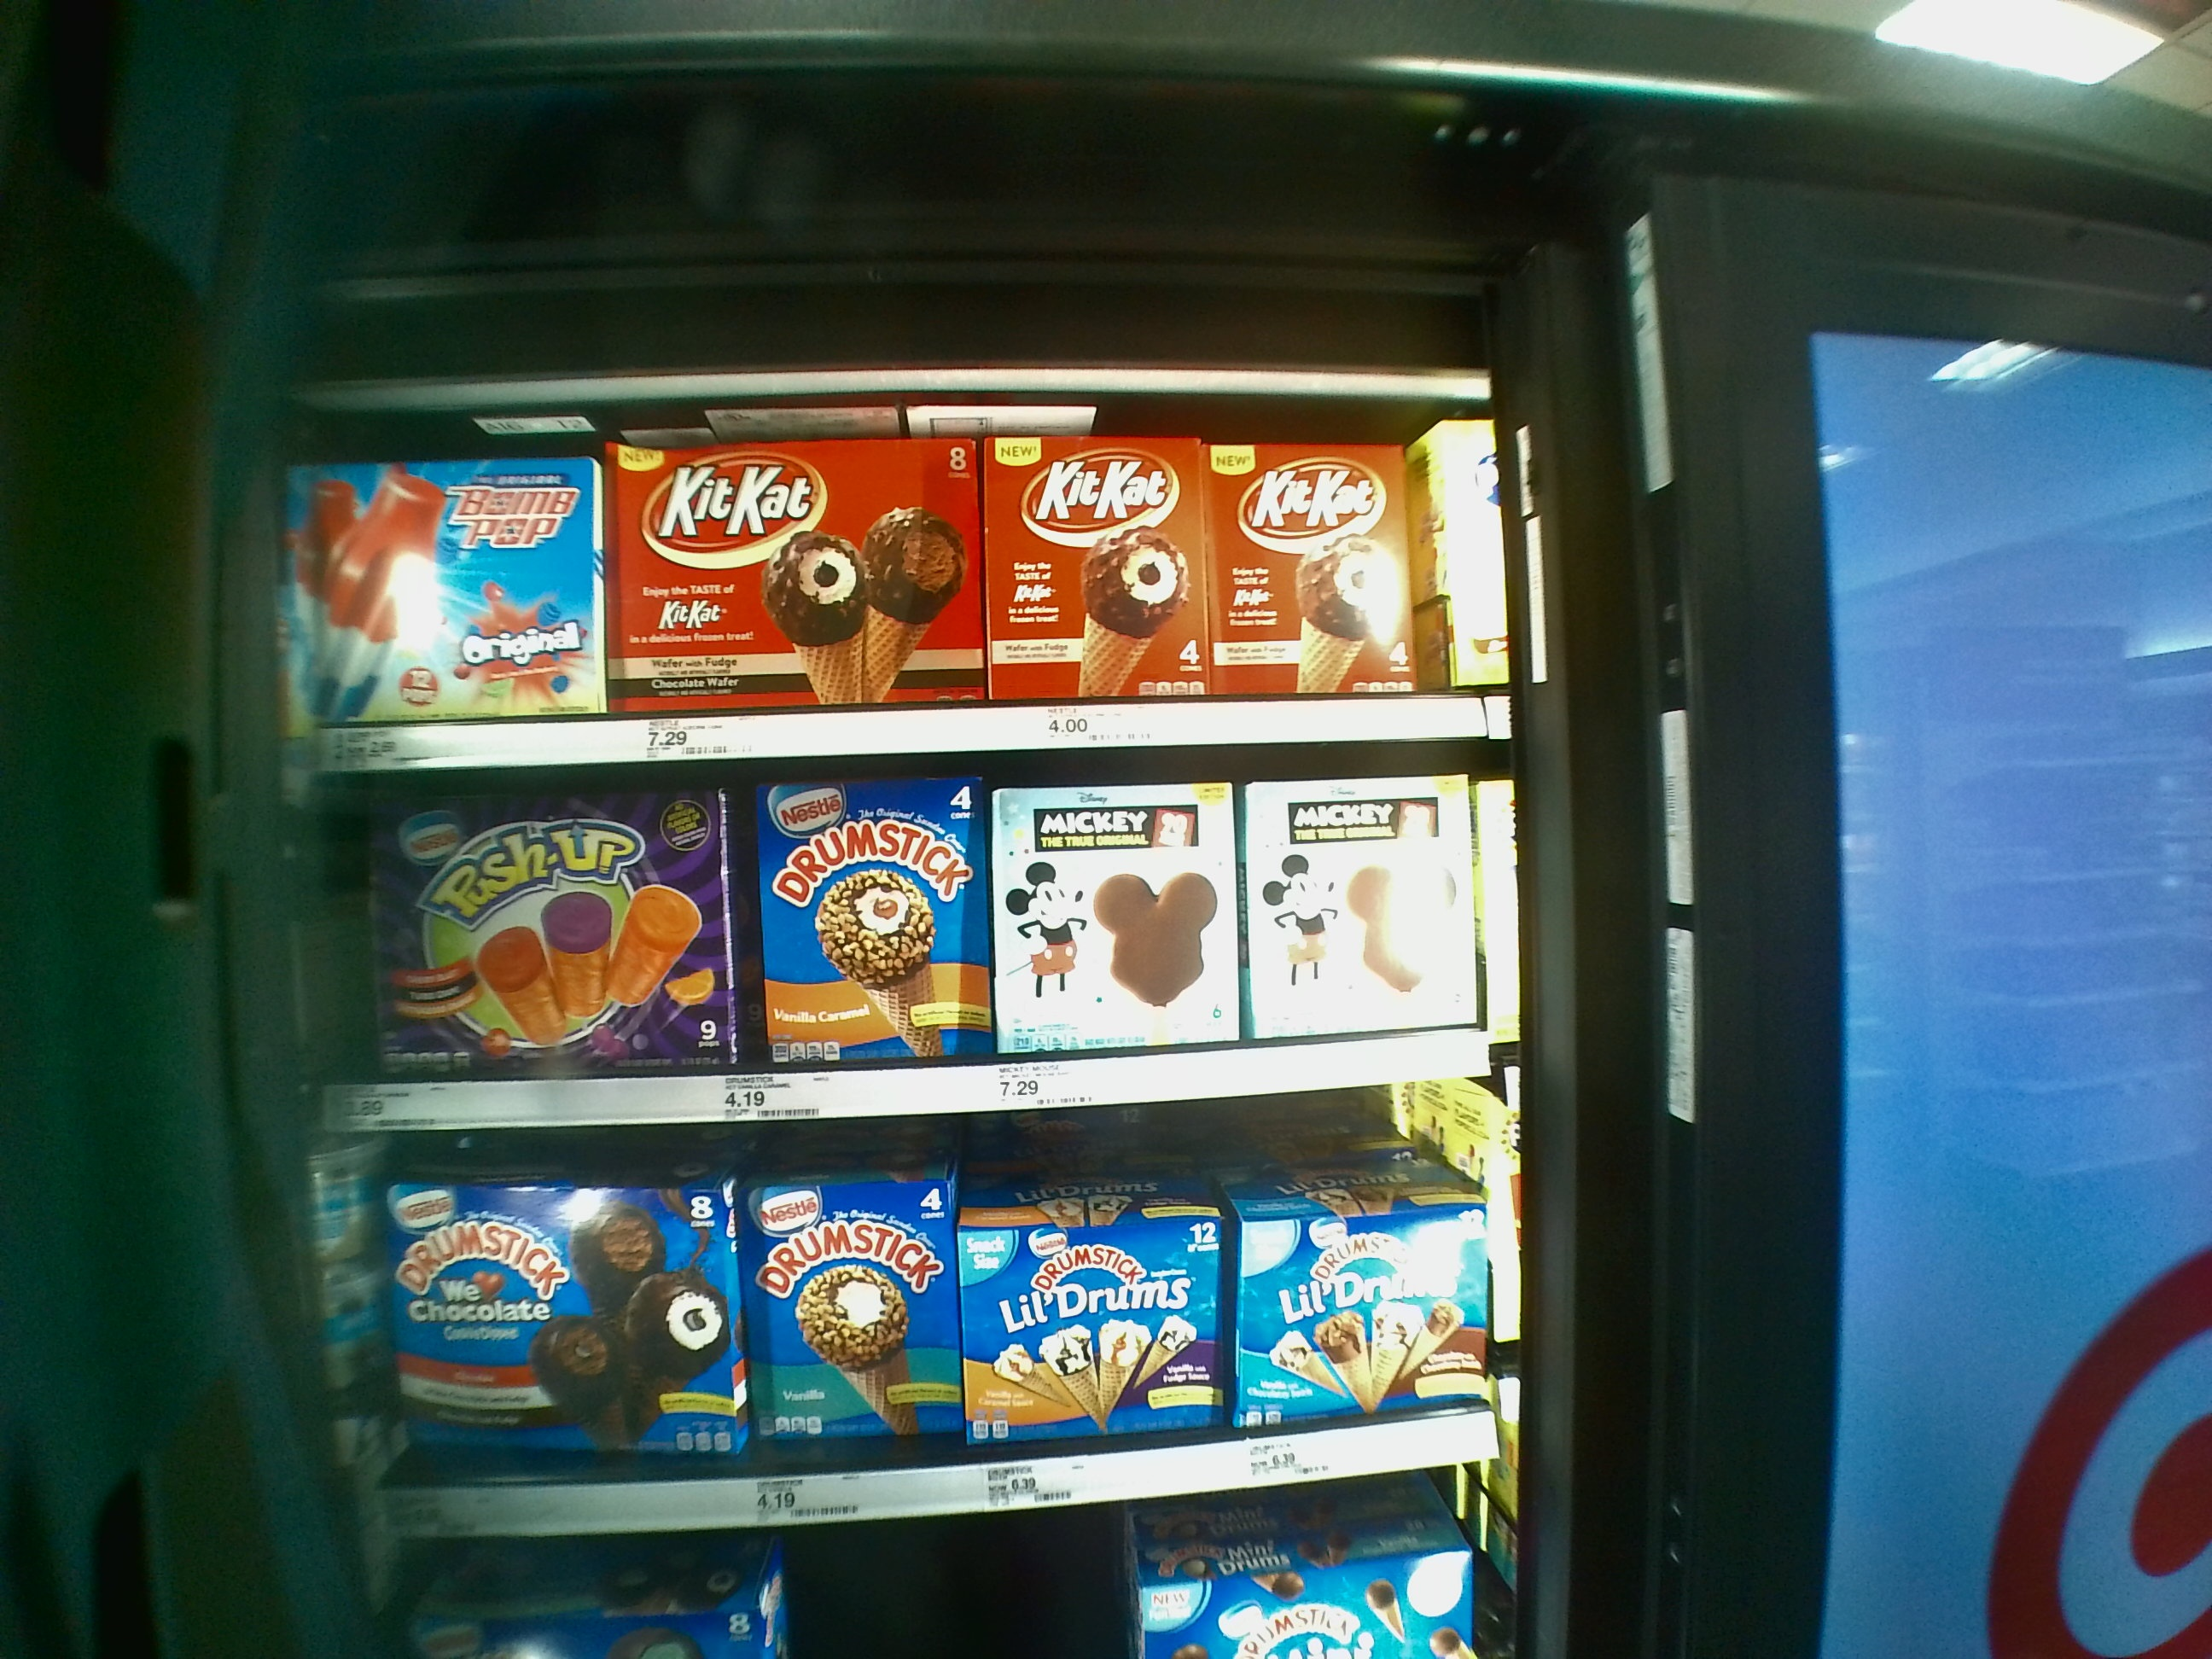shelf: (345, 1124, 1514, 1514), (301, 748, 1498, 1122), (286, 408, 1503, 748)
